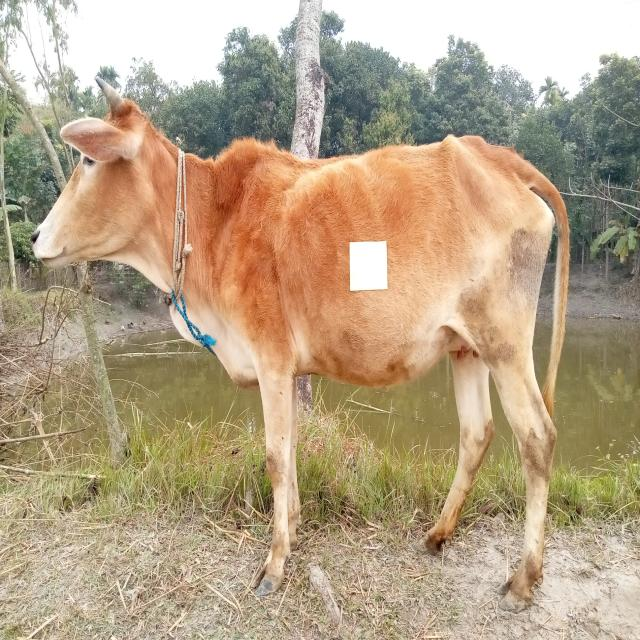badan_sapi: (244, 150, 514, 384)
sapi: (30, 74, 574, 608)
